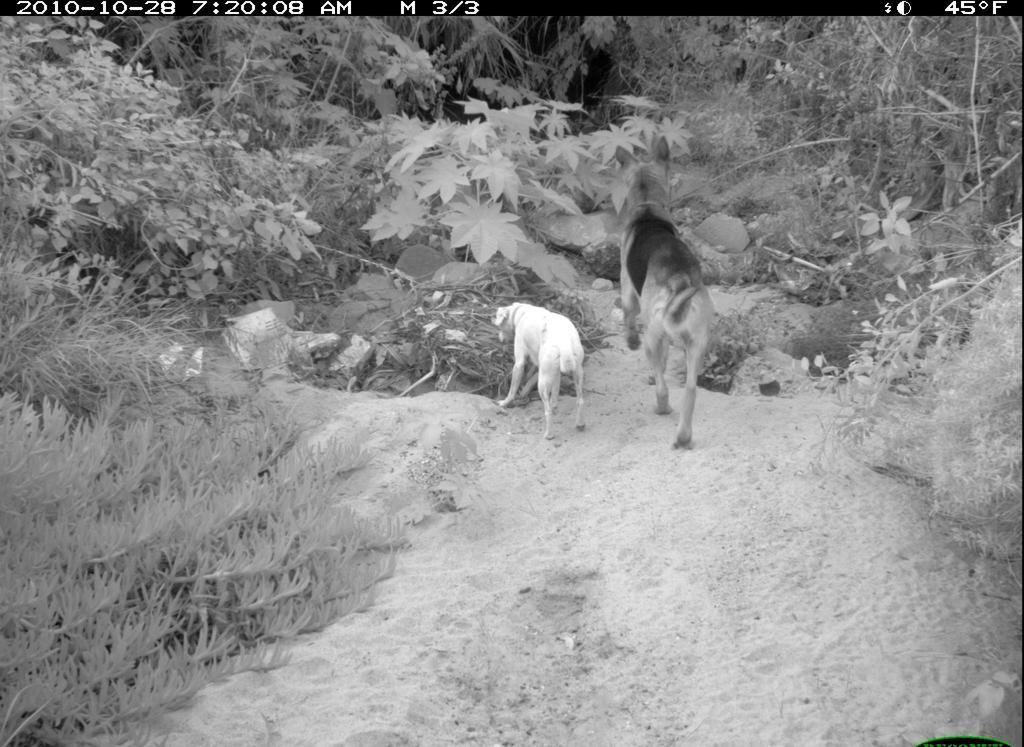dog: (601, 152, 737, 459), (440, 280, 587, 446)
